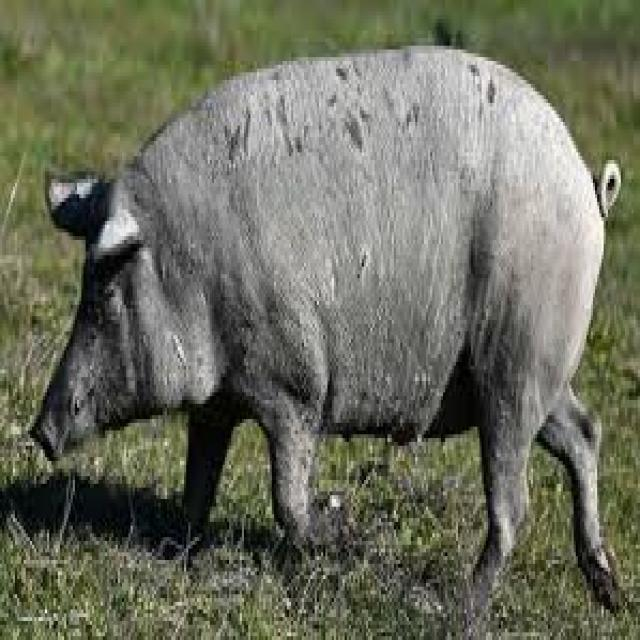Pig: (27, 10, 636, 601)
